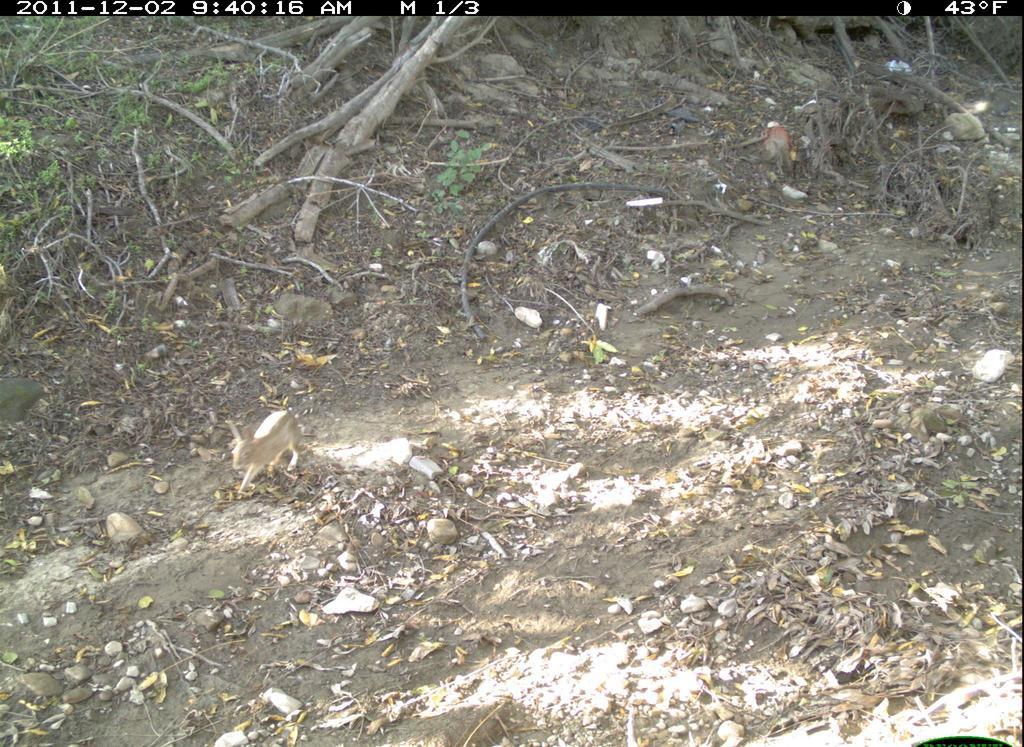rabbit: (210, 391, 321, 497)
